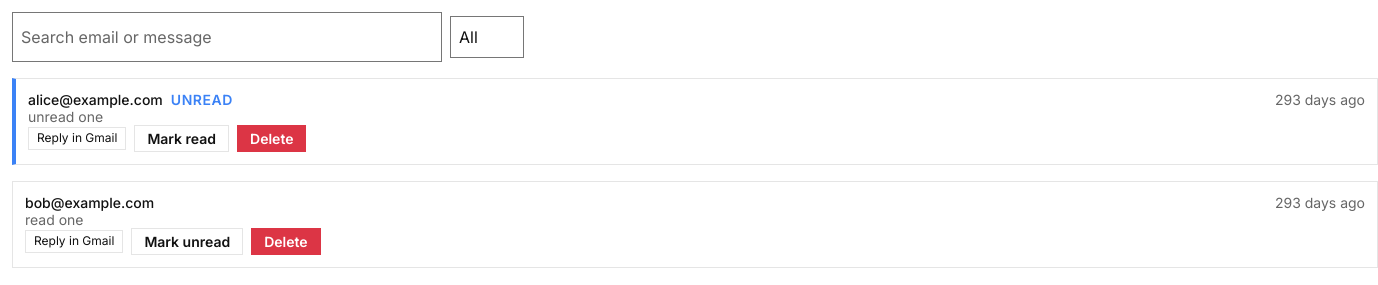
it: CommentsList — read state › marks unread back again
Click the button "Mark unread".
click(187, 242)  # box [131, 228, 243, 255]
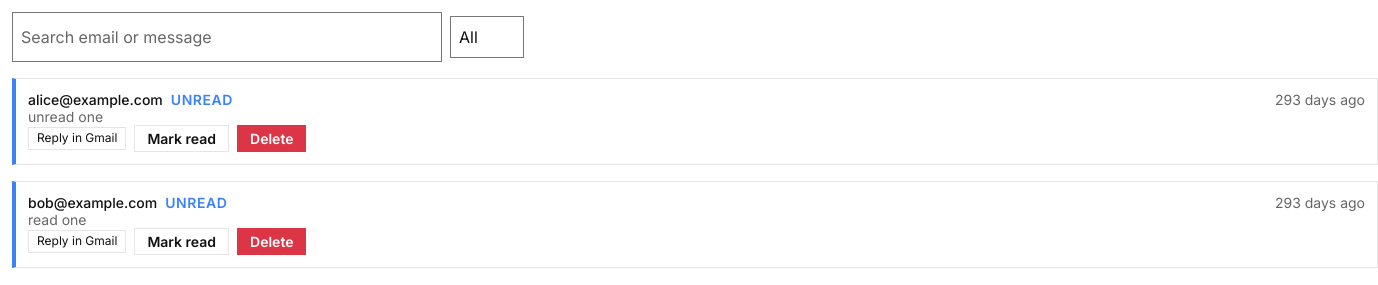
Now the text "Unread" is shown 2 times, box [171, 91, 233, 108]; [165, 194, 228, 211]
